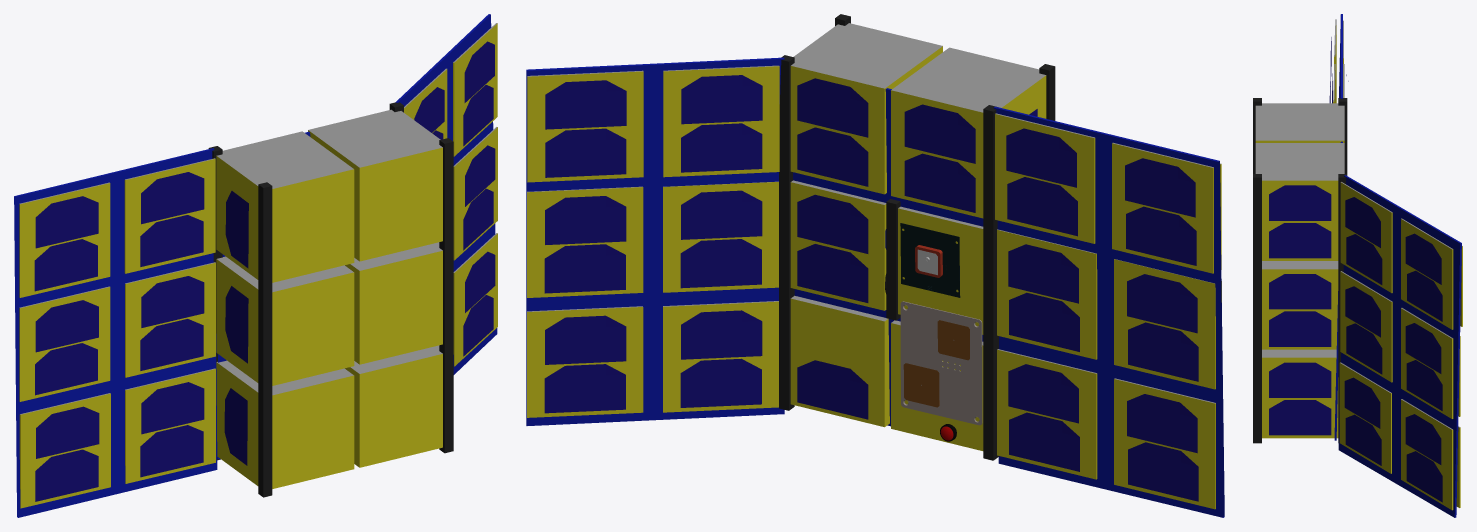
The model's file is sateliotsat.obj.
The picture shows the model from 3 angles, left to right: view 1: azimuth 30°, elevation 25°; view 2: azimuth 150°, elevation 25°; view 3: azimuth 270°, elevation 25°; orthographic projection. The views are drawn at different scales.
Parts seen in each view (by area): view 1: CubeSat.001, Cube.001_Cube.014, CubeSat.004, CubeSat, CubeSat.002, CubeSat.003, CubeSat.005, CubeSat.016_CubeSat.022, CubeSat.017_CubeSat.023, CubeSat.015_CubeSat.021, CubeSat.013_CubeSat.019, CubeSat.014_CubeSat.020 (+34 smaller); view 2: Cube.001_Cube.002, Cube.001_Cube.014, CubeSat.001, CubeSat.004, CubeSat.005, PCL_101_23_DUAL_2_Mod_07022104, CubeSat.023_CubeSat.029, CubeSat.022_CubeSat.028, CubeSat.019_CubeSat.025, CubeSat.021_CubeSat.027, CubeSat.018_CubeSat.024, CubeSat.020_CubeSat.026 (+51 smaller); view 3: Cube.001_Cube.002, CubeSat.004, CubeSat.001, CubeSat.005, CubeSat.003, SolarPanel.033, SolarPanel.024, SolarPanel.041, SolarPanel.025, SolarPanel.032, SolarPanel.040, CubeSat.027_CubeSat.033 (+27 smaller).
Boxes of the visible parts, left/top/right/bottom form: CubeSat.001: left=216, top=131, right=354, bottom=282; Cube.001_Cube.014: left=14, top=148, right=217, bottom=517; CubeSat.004: left=308, top=109, right=442, bottom=261; CubeSat: left=216, top=256, right=354, bottom=385; CubeSat.002: left=216, top=360, right=354, bottom=488; CubeSat.003: left=345, top=242, right=442, bottom=364; CubeSat.005: left=345, top=345, right=442, bottom=467; CubeSat.016_CubeSat.022: left=124, top=158, right=215, bottom=273; CubeSat.017_CubeSat.023: left=19, top=182, right=110, bottom=297; CubeSat.015_CubeSat.021: left=19, top=286, right=110, bottom=401; CubeSat.013_CubeSat.019: left=19, top=393, right=110, bottom=508; CubeSat.014_CubeSat.020: left=125, top=262, right=215, bottom=377; Cube.001_Cube.002: left=526, top=57, right=784, bottom=425; Cube.001_Cube.014: left=993, top=106, right=1224, bottom=517; CubeSat.001: left=891, top=47, right=1046, bottom=218; CubeSat.004: left=790, top=23, right=942, bottom=194; CubeSat.005: left=790, top=295, right=889, bottom=427; PCL_101_23_DUAL_2_Mod_07022104: left=900, top=301, right=982, bottom=425; CubeSat.023_CubeSat.029: left=527, top=70, right=643, bottom=182; CubeSat.022_CubeSat.028: left=663, top=65, right=779, bottom=177; CubeSat.019_CubeSat.025: left=527, top=306, right=643, bottom=417; CubeSat.021_CubeSat.027: left=527, top=186, right=643, bottom=297; CubeSat.018_CubeSat.024: left=663, top=301, right=778, bottom=412; CubeSat.020_CubeSat.026: left=663, top=181, right=778, bottom=292; Cube.001_Cube.002: left=1338, top=175, right=1461, bottom=517; CubeSat.004: left=1255, top=143, right=1344, bottom=260; CubeSat.001: left=1255, top=103, right=1344, bottom=142; CubeSat.005: left=1262, top=349, right=1338, bottom=438; CubeSat.003: left=1262, top=261, right=1338, bottom=349; SolarPanel.033: left=1269, top=223, right=1331, bottom=258; SolarPanel.024: left=1269, top=274, right=1331, bottom=309; SolarPanel.041: left=1269, top=400, right=1331, bottom=435; SolarPanel.025: left=1269, top=311, right=1331, bottom=346; SolarPanel.032: left=1269, top=185, right=1331, bottom=220; SolarPanel.040: left=1269, top=362, right=1331, bottom=397; CubeSat.027_CubeSat.033: left=1340, top=271, right=1392, bottom=382.
Size of the model in its own units: 0.6128 by 0.3406 by 0.2363.
